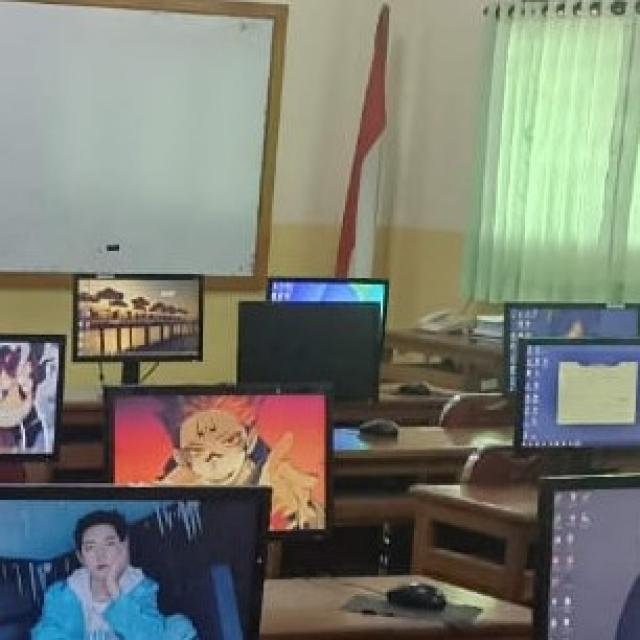offscreen: (239, 304, 378, 401)
onscreen: (0, 487, 267, 640), (105, 386, 328, 531), (536, 474, 640, 639), (516, 339, 640, 447), (504, 304, 640, 392), (75, 275, 202, 361), (0, 335, 65, 456), (269, 279, 389, 303)
